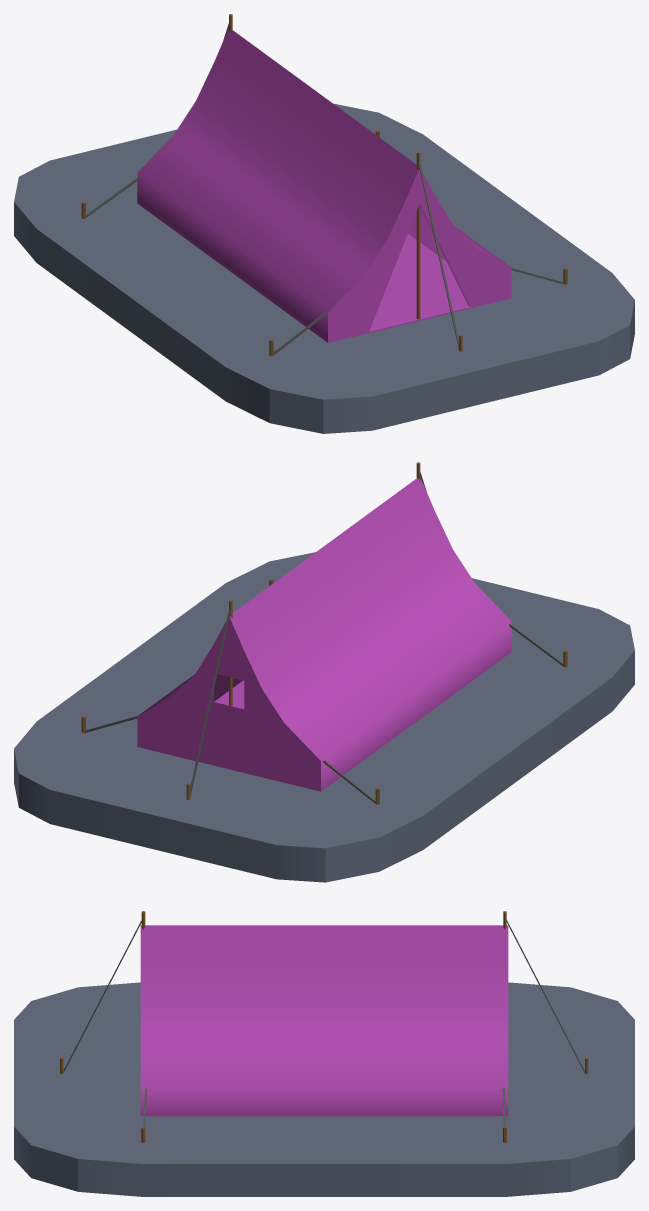
The model's file is Tent_Purple.fbx.
3 renders of one model, top to bottom at view 1: azimuth 30°, elevation 25°; view 2: azimuth 150°, elevation 25°; view 3: azimuth 270°, elevation 25°, orthographic. The views are drawn at different scales.
Parts seen in each view (by area): view 1: Tent; view 2: Tent; view 3: Tent.
Part boxes in pixels (x1=…): Tent: x1=14, y1=14, x2=634, y2=433; Tent: x1=14, y1=462, x2=634, y2=882; Tent: x1=14, y1=911, x2=634, y2=1196.
Bounding box in the file's own units: 10.53 × 5.24 × 15.2.
